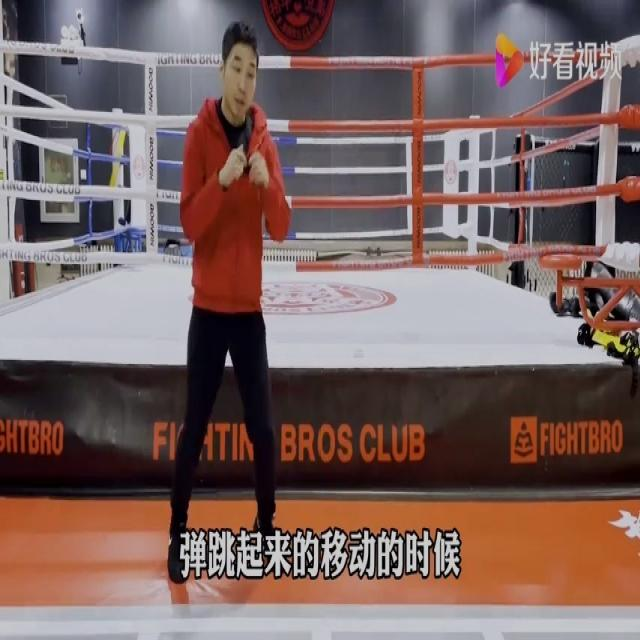non-fight: (158, 9, 292, 591)
